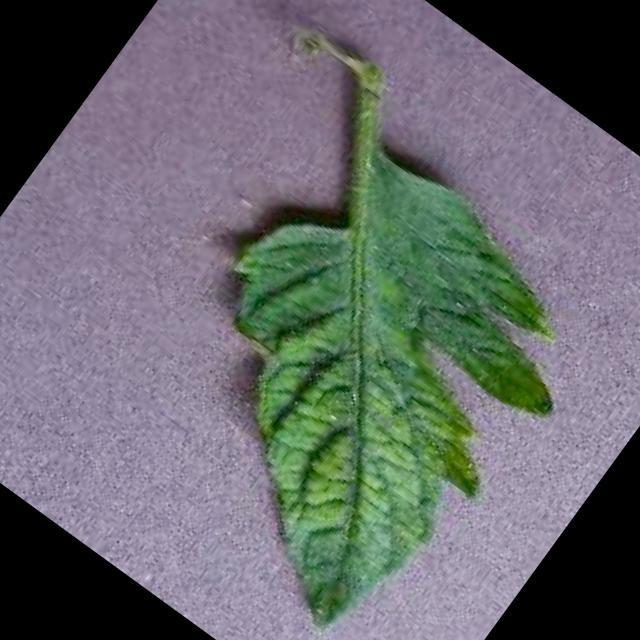Tomato mosaic virus leaf: (87, 109, 628, 640)
